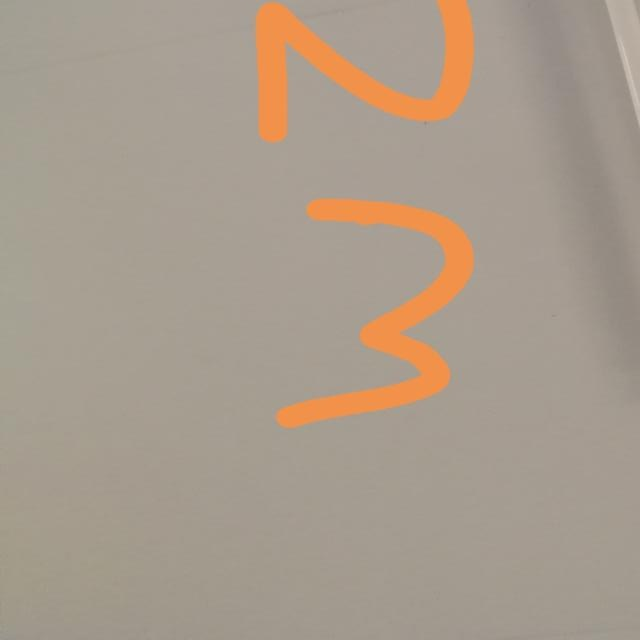fluorescent tube: (439, 0, 640, 405)
